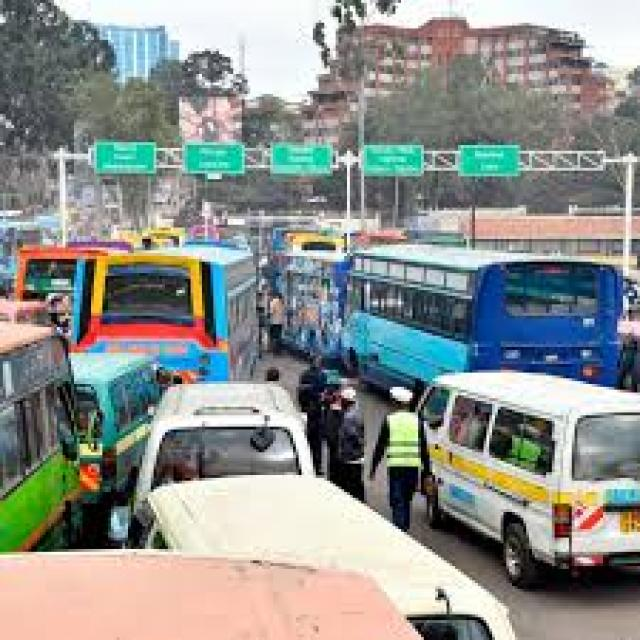bus: (344, 242, 638, 368), (0, 307, 91, 543), (86, 240, 244, 328), (258, 211, 331, 347), (20, 240, 78, 296)
matatu: (414, 373, 640, 558), (154, 374, 325, 474), (101, 348, 149, 497)
